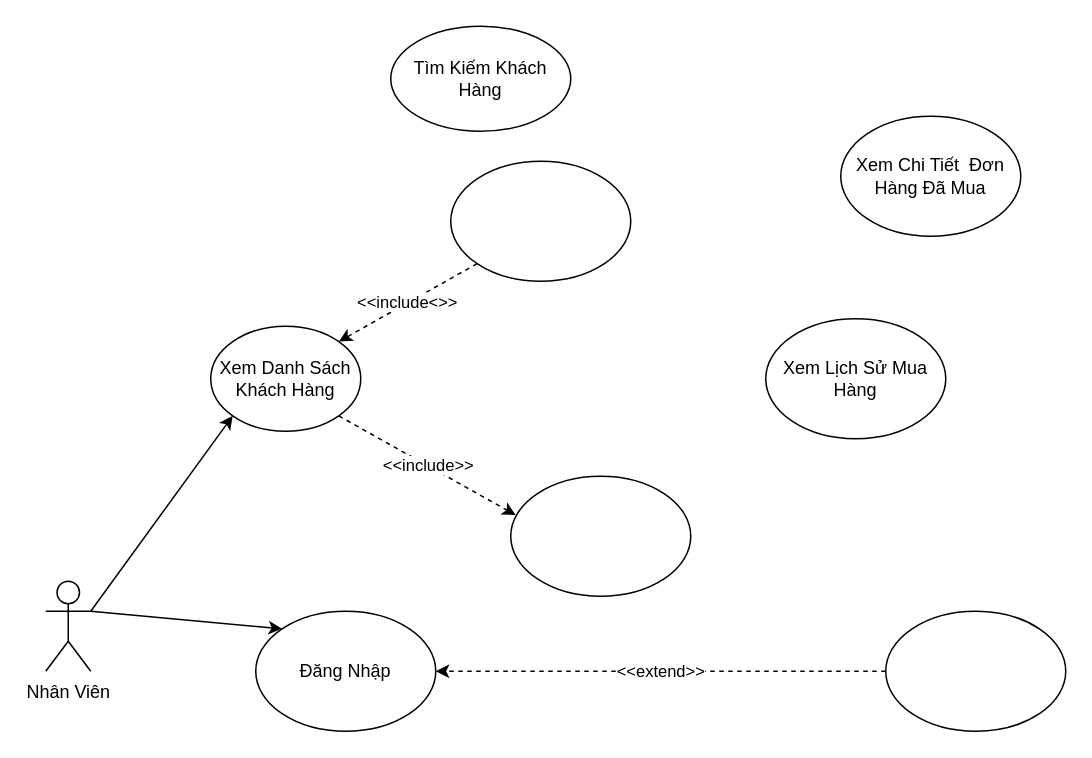
Some shapes in this 1092 by 758 pixel diagram are drawn without their labels. The centre of each missing label's shape, as x and y in pixels:
"Danh Sách Hóa Đơn" goes at point (600, 535).
"Xem Thông Tin Chi Tiết Khách Hàng" goes at point (540, 220).
"Đăng Xuất" goes at point (975, 670).
